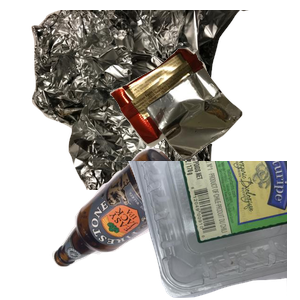glass: (49, 145, 229, 300)
metal: (29, 10, 269, 190)
plastic: (60, 161, 300, 300)
trash: (107, 46, 300, 198)
